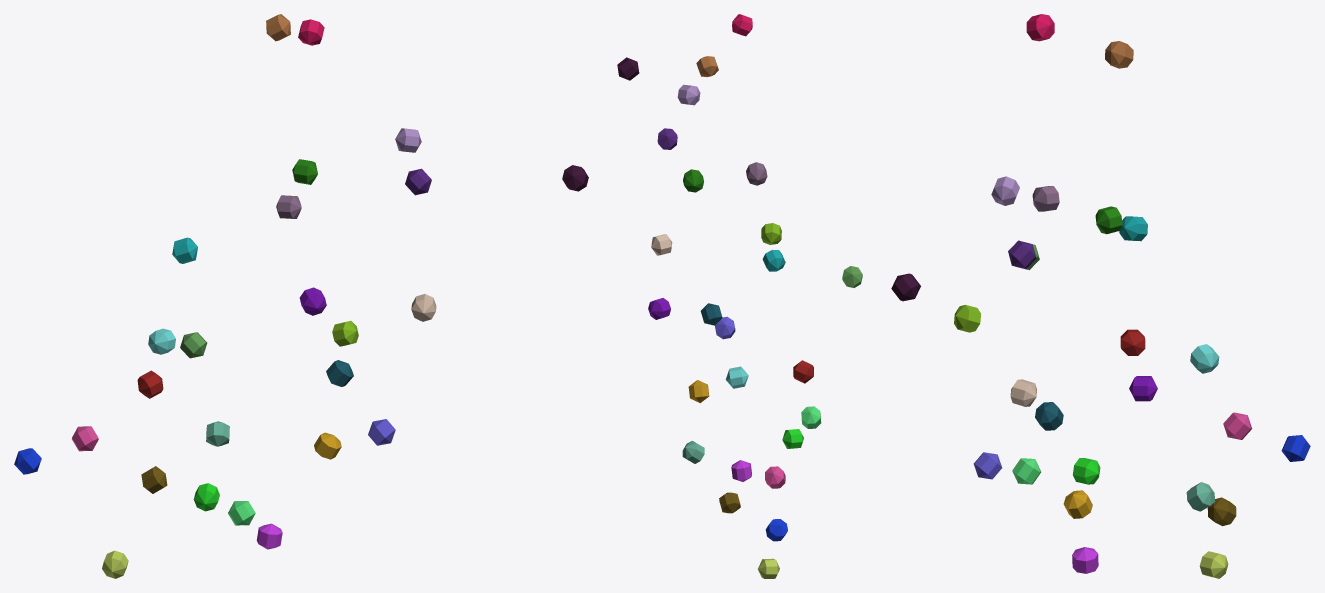
The model's file is fg-00010-bone.obj.
The picture shows the model from 3 angles, left to right: view 1: azimuth 30°, elevation 25°; view 2: azimuth 150°, elevation 25°; view 3: azimuth 270°, elevation 25°; orthographic projection. The views are drawn at different scales.
Size of the model in its own units: 0.1568 by 0.2281 by 0.1394.
